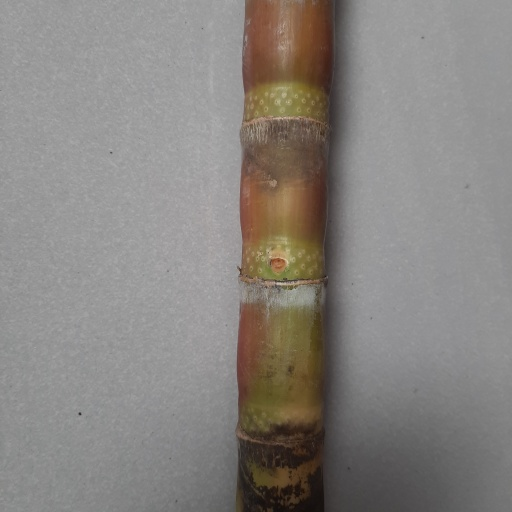Damage_Bud: (267, 257, 290, 276)
